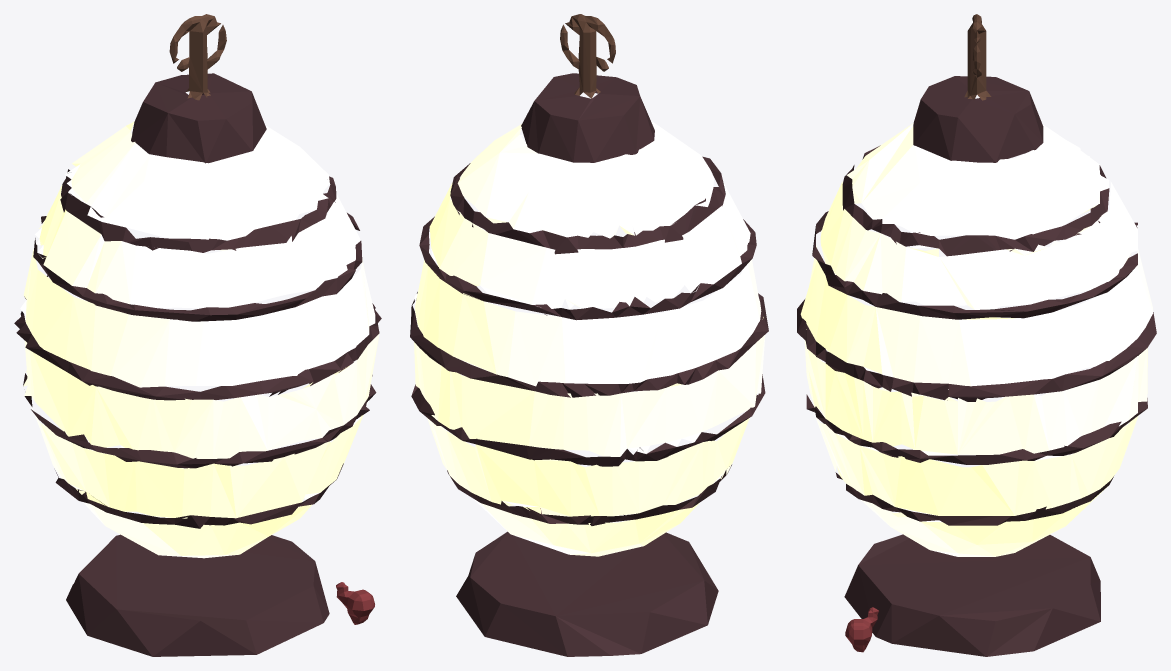
The model's file is lure_paper.glb.
The picture shows the model from 3 angles, left to right: view 1: azimuth 30°, elevation 25°; view 2: azimuth 150°, elevation 25°; view 3: azimuth 270°, elevation 25°; orthographic projection.
Visible parts, largest first — view 1: lure_paper; view 2: lure_paper; view 3: lure_paper.
Boxes of the visible parts, x1,y1,x2,y2 form: lure_paper: [14, 14, 381, 656]; lure_paper: [410, 14, 768, 656]; lure_paper: [797, 14, 1156, 656].
Bounding box in the file's own units: 0.456 × 0.8211 × 0.456.
